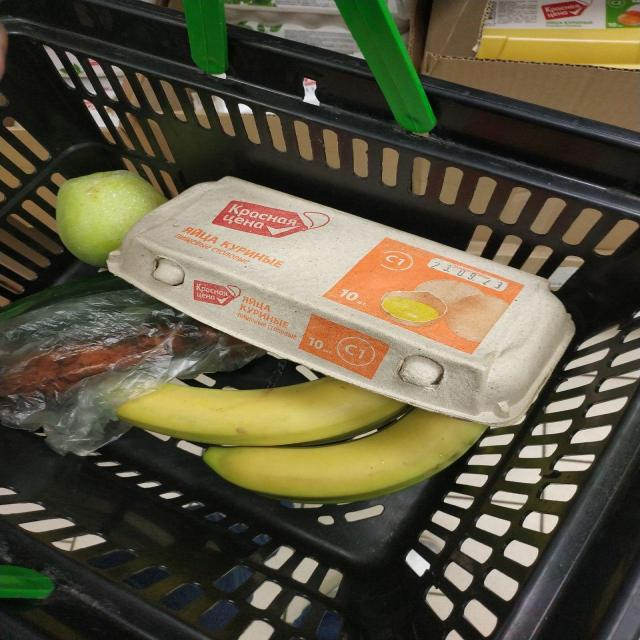Apple: (57, 170, 167, 267)
Banana: (203, 409, 485, 504), (117, 378, 407, 446)
Carrot: (0, 336, 163, 396)
Eggs: (107, 176, 573, 425)
